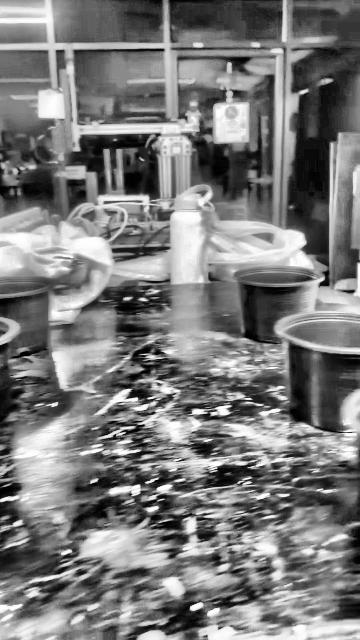pot: (279, 312, 360, 432), (233, 266, 323, 342), (0, 276, 51, 356), (0, 318, 19, 419)
